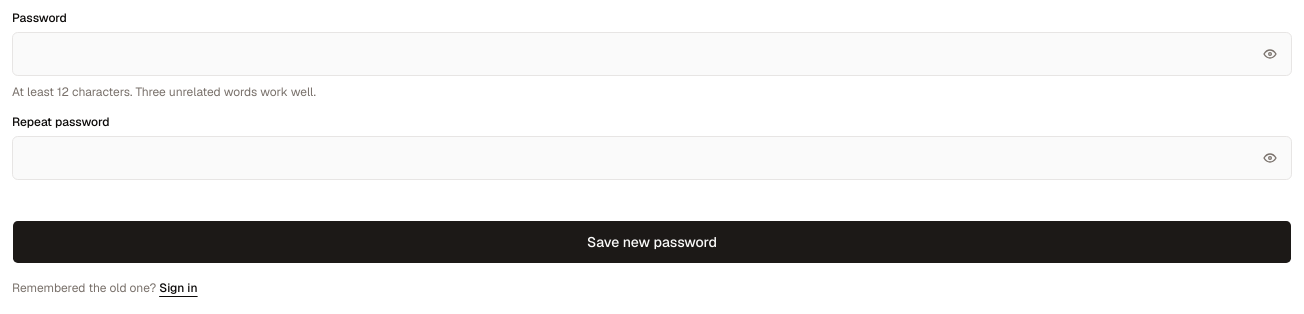
ResetPasswordForm › saves the new password against the token in the link
Type "beans-on-toast-every-day" into the password field labelled "Password". click: x=652, y=54
box: [12, 32, 1292, 76]
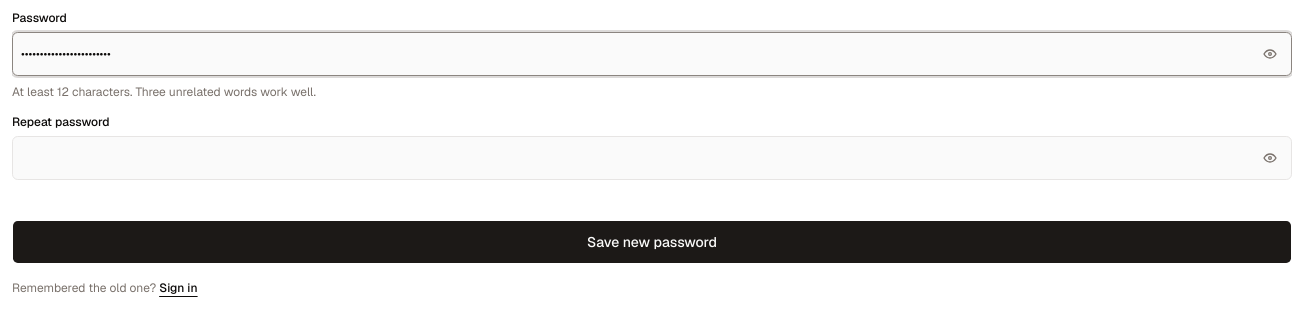
Type "beans-on-toast-every-day" into the password field labelled "Repeat password". click: x=652, y=158
box: [12, 136, 1292, 180]
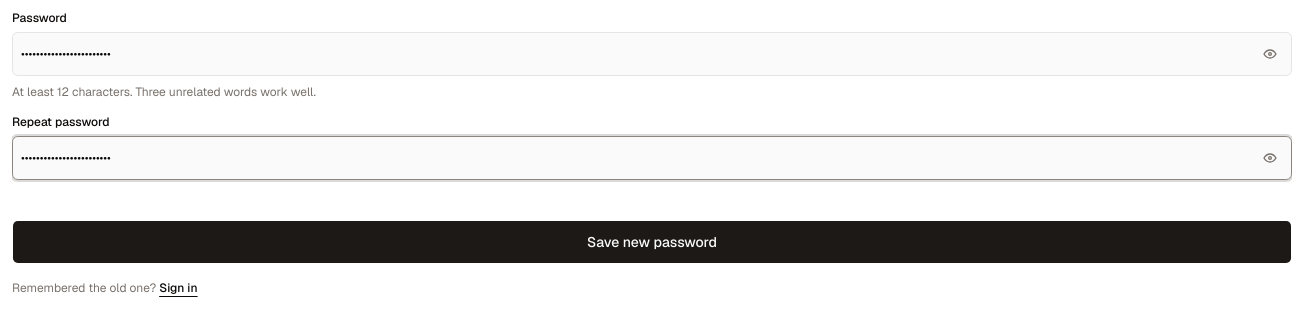
Click the button "Save new password". click: x=652, y=242
box: [12, 220, 1292, 264]
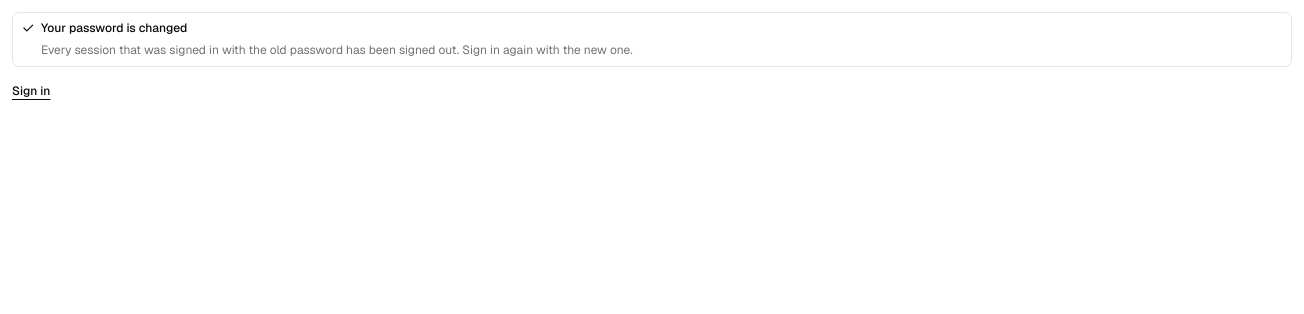
Check: the text "Your password is changed" is shown, box [41, 20, 187, 36]
